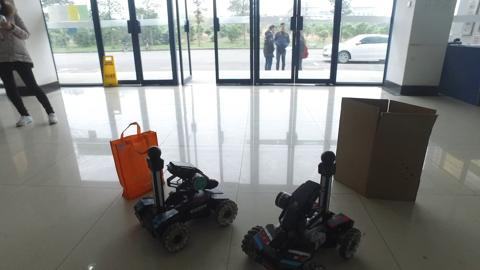bag: (113, 115, 157, 201)
box: (338, 94, 433, 206)
chariot: (246, 144, 367, 270), (141, 146, 234, 246)
